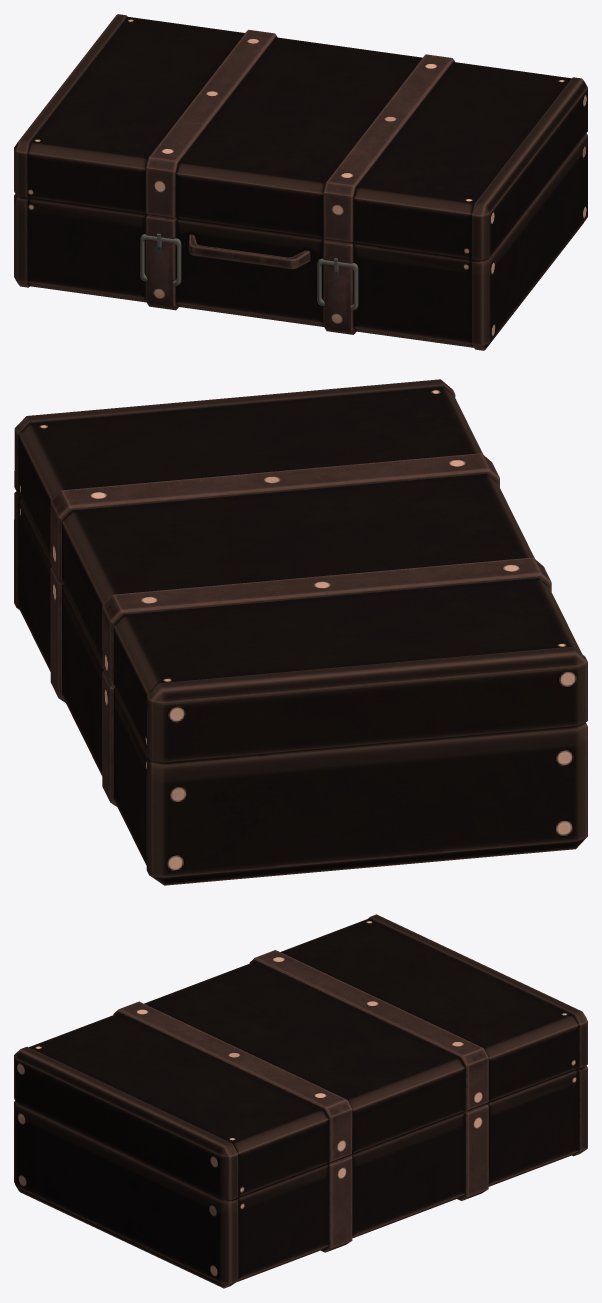
The model's file is Suitcase_7.glb.
The picture shows the model from 3 angles, top to bottom: view 1: azimuth 30°, elevation 25°; view 2: azimuth 150°, elevation 25°; view 3: azimuth 270°, elevation 25°; orthographic projection. The views are drawn at different scales.
Visible parts, largest first — view 1: Object_4; view 2: Object_4; view 3: Object_4.
Part boxes in pixels (box(x1,y1,x2,y2)): Object_4: box(14, 14, 587, 350); Object_4: box(14, 379, 587, 885); Object_4: box(14, 914, 587, 1288).
Size of the model in its own units: 8.33 by 2.39 by 8.52.
1 material, 1 textured.
